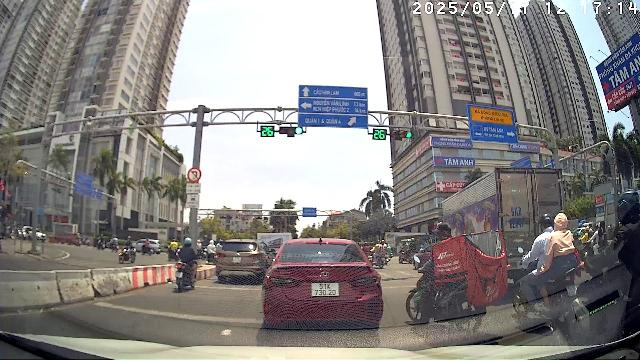103c-cam-oto-re-trai: (187, 166, 202, 182)
